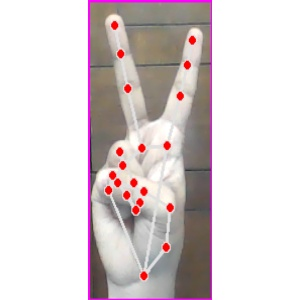V: (89, 2, 212, 300)
